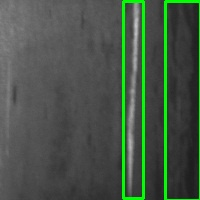inclusion: (165, 1, 200, 200)
scratches: (123, 1, 143, 198)
